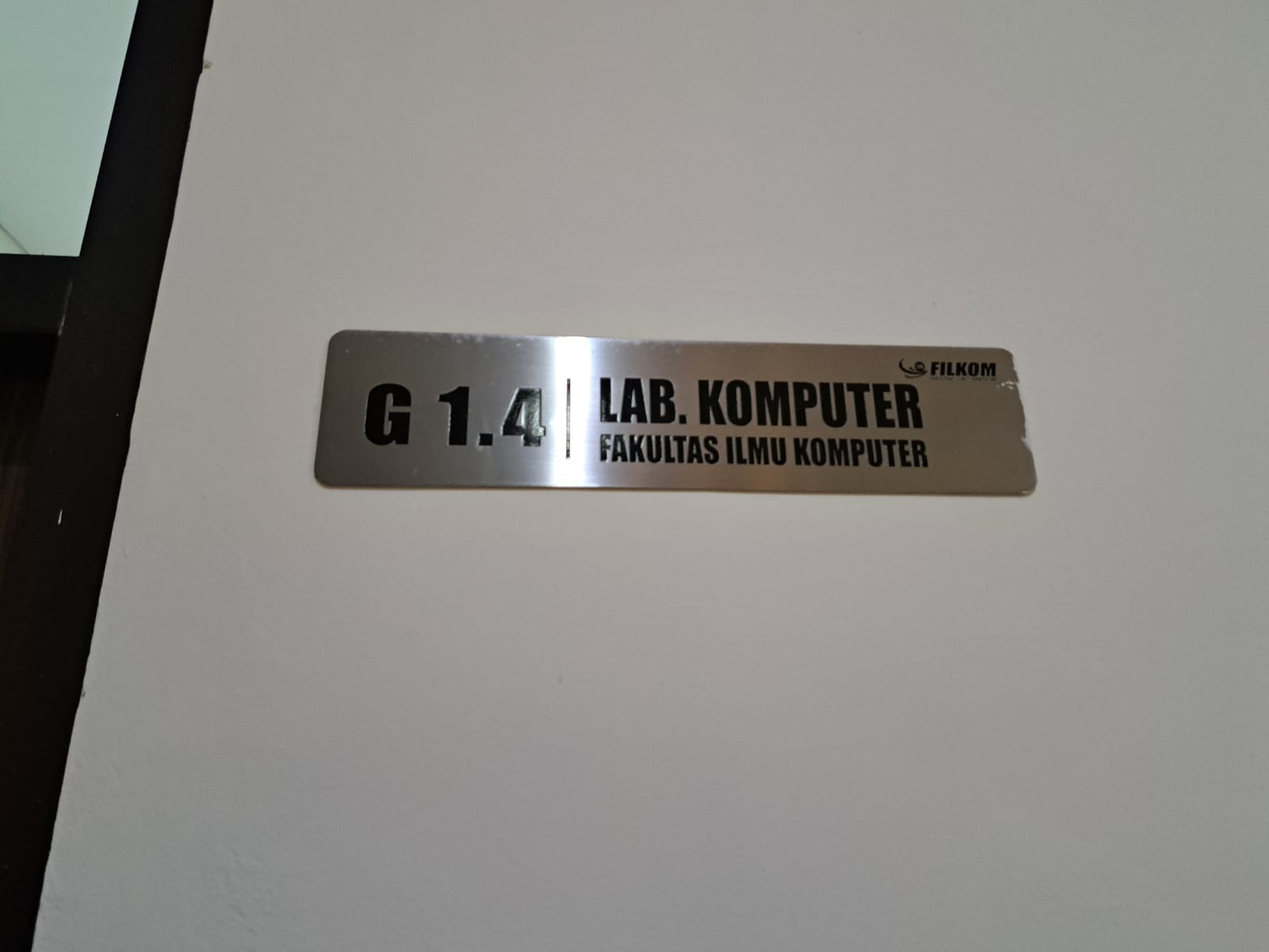ruangan: (293, 308, 1052, 515)
